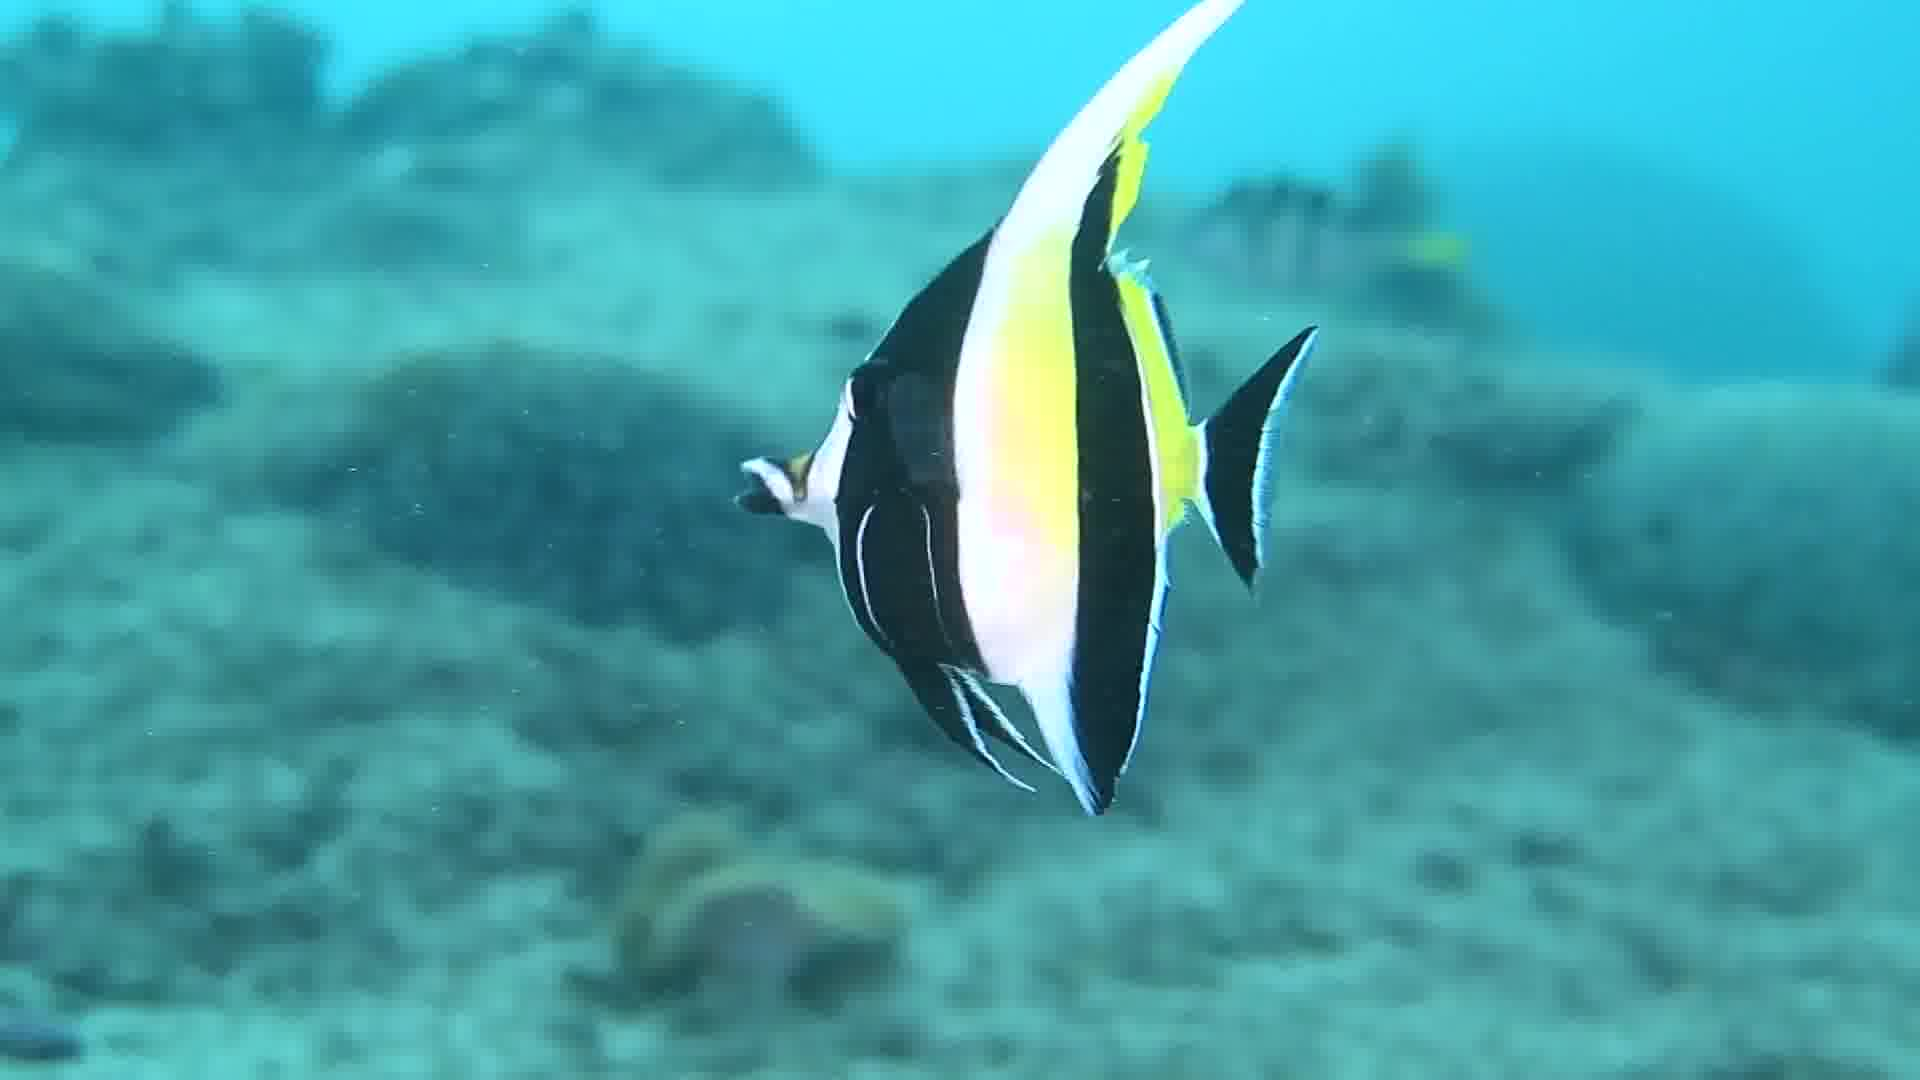Zanclus cornutus: (705, 1, 1313, 814)
